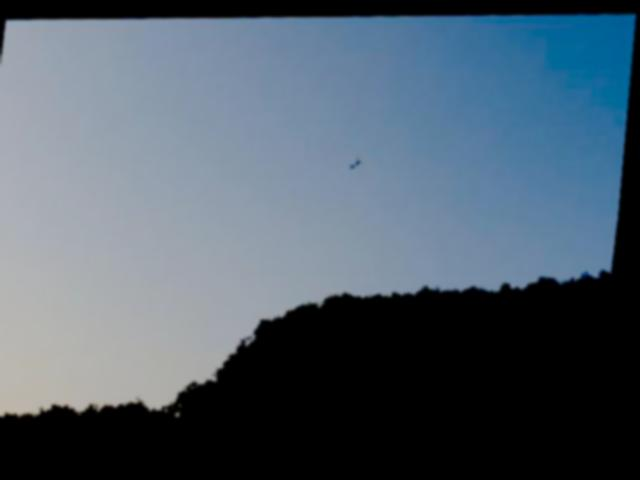uav: (351, 160, 368, 174)
